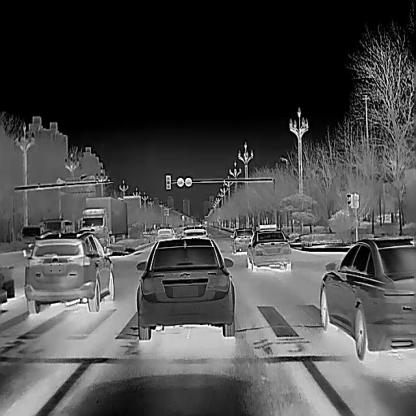car: (319, 236, 415, 360), (136, 233, 235, 339), (23, 228, 114, 314), (246, 224, 291, 270), (230, 228, 254, 253), (180, 224, 206, 238), (156, 227, 176, 241)
truck: (80, 196, 127, 242), (22, 226, 44, 253), (42, 218, 73, 235)
